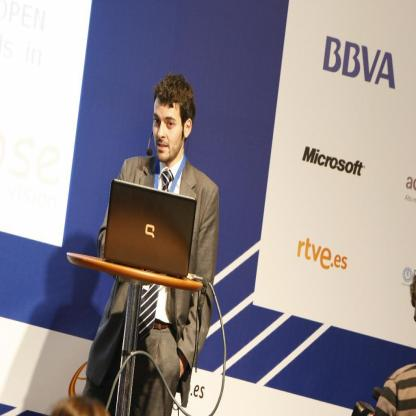board: (96, 185, 209, 290)
